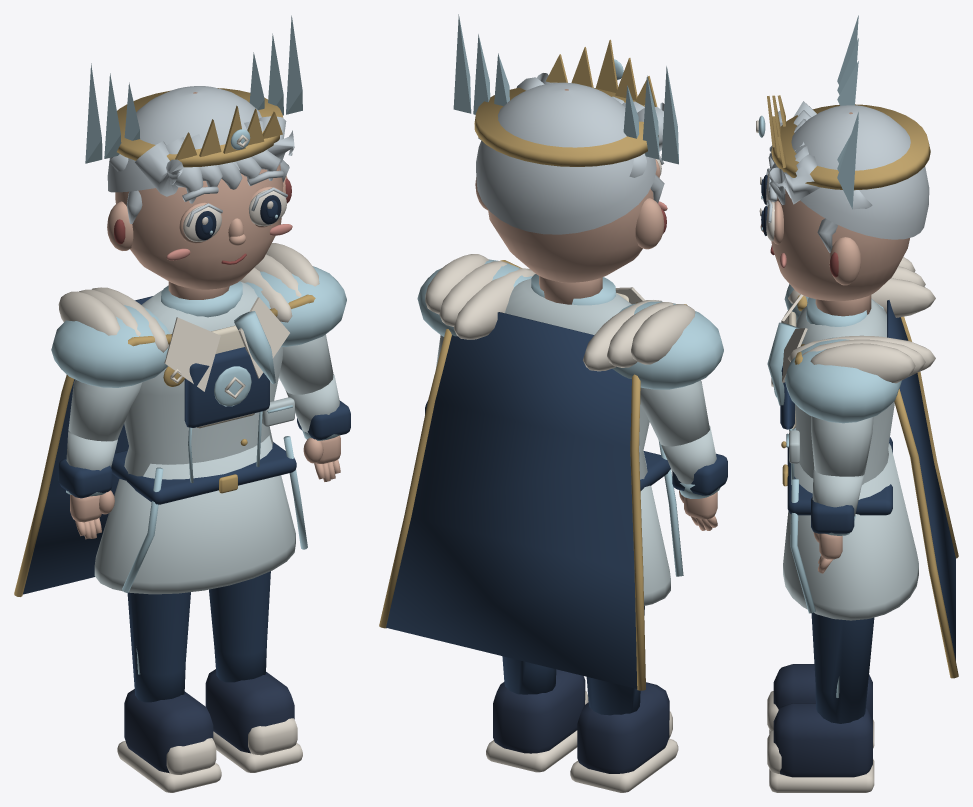
File: elite_frost_master.glb
3 views of the same model, side by side, from view 1: azimuth 30°, elevation 25°; view 2: azimuth 150°, elevation 25°; view 3: azimuth 270°, elevation 25° (orthographic). The views are drawn at different scales.
Visible parts, largest first — view 1: figure.017; view 2: figure.017; view 3: figure.017.
Part boxes in pixels (box(x1,y1,x2,y2)): figure.017: box(14, 15, 350, 792); figure.017: box(379, 14, 727, 792); figure.017: box(756, 15, 958, 792).
Size of the model in its own units: 1.23 by 2.96 by 0.7765.
